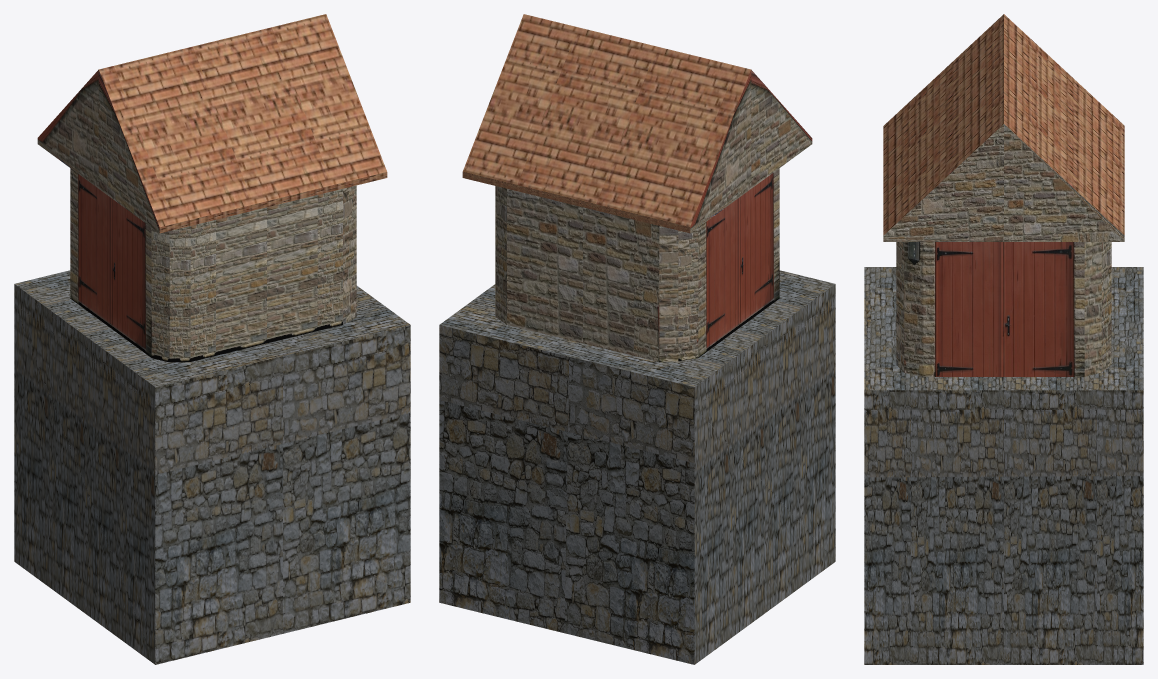
Rendered from warehouse-backup.glb.
3 renders of one model, left to right at view 1: azimuth 30°, elevation 25°; view 2: azimuth 150°, elevation 25°; view 3: azimuth 270°, elevation 25°, orthographic.
Visible parts, largest first — view 1: Cube.002, Cube.001, Cube; view 2: Cube.002, Cube.001, Cube; view 3: Cube.002, Cube.001, Cube.
Part boxes in pixels (box(x1,y1,x2,y2)): Cube.002: box(14, 270, 410, 664); Cube.001: box(37, 14, 387, 233); Cube: box(70, 168, 356, 362); Cube.002: box(439, 270, 835, 664); Cube.001: box(462, 14, 812, 233); Cube: box(495, 168, 779, 361); Cube.002: box(864, 267, 1143, 664); Cube.001: box(883, 14, 1124, 241); Cube: box(896, 242, 1111, 376).
Size of the model in its own units: 1.92 by 3.89 by 1.84.
3 materials, 3 textured.
